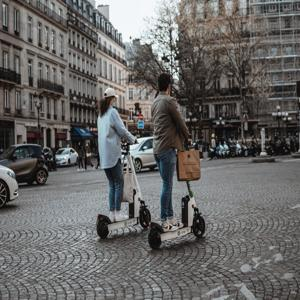human on a scooter: (146, 72, 206, 250), (95, 86, 152, 239)
